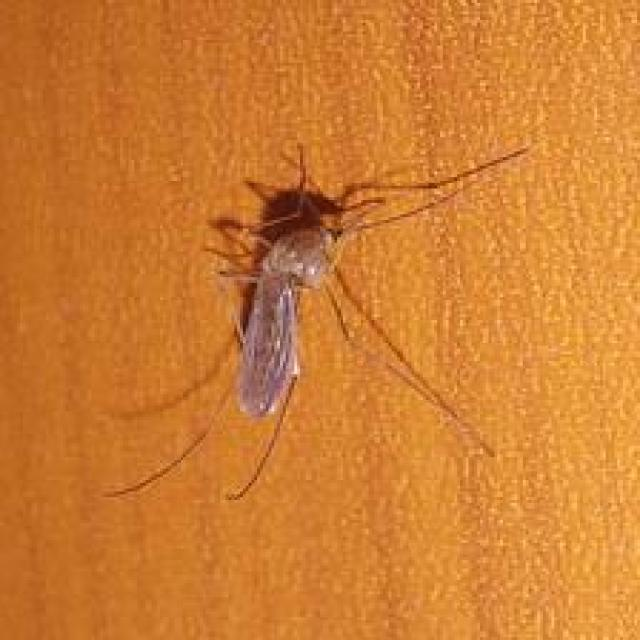Culex: (103, 137, 531, 503)
